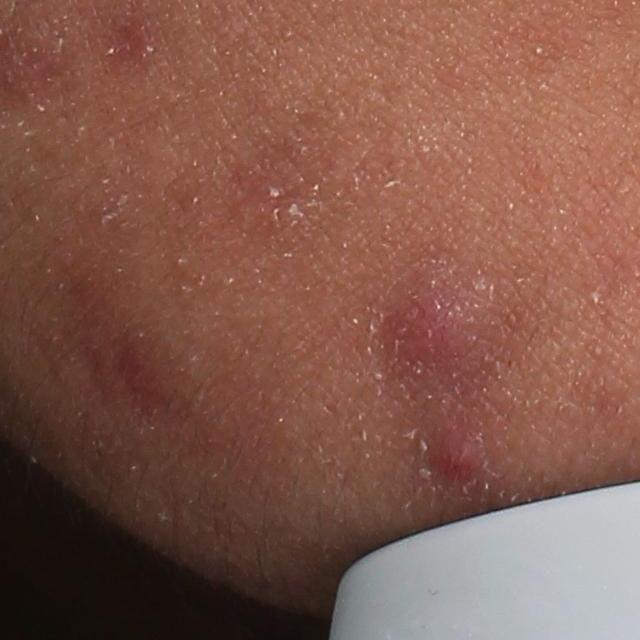papule: (388, 268, 492, 385), (413, 420, 485, 494)
